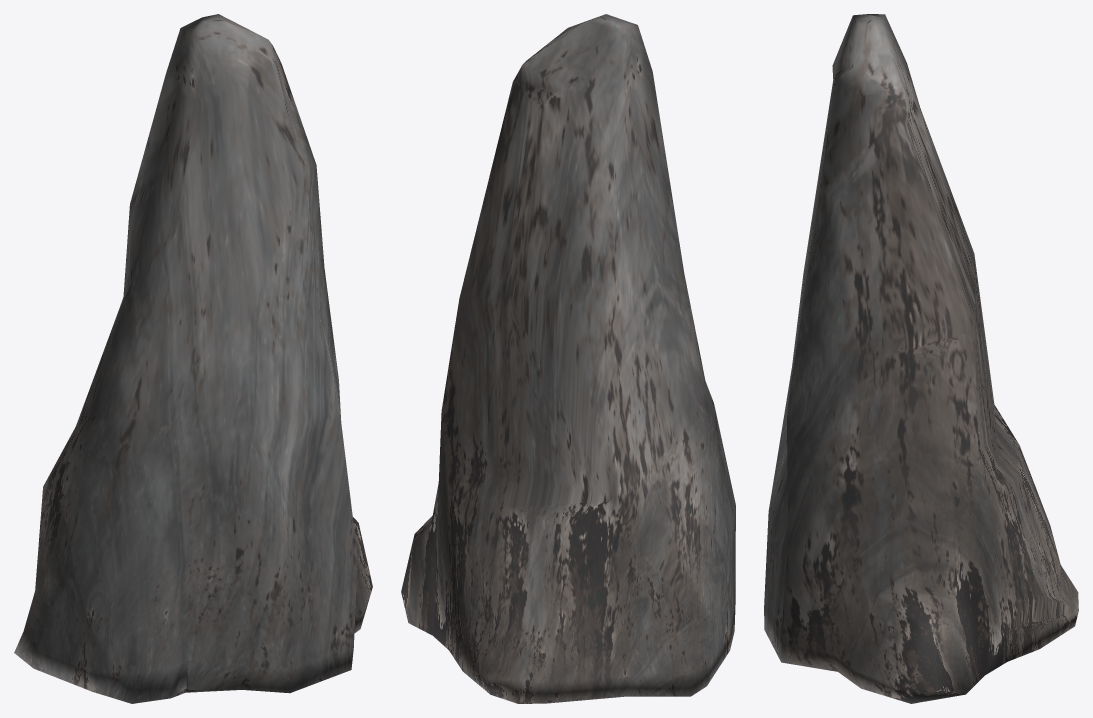
The model's file is stone11.fbx.
3 views of the same model, side by side, from view 1: azimuth 30°, elevation 25°; view 2: azimuth 150°, elevation 25°; view 3: azimuth 270°, elevation 25° (orthographic). The views are drawn at different scales.
Parts seen in each view (by area): view 1: stone05; view 2: stone05; view 3: stone05.
Part boxes in pixels (x1,y1,x2,y2): stone05: [14, 14, 372, 703]; stone05: [401, 14, 735, 703]; stone05: [764, 14, 1078, 703].
Bounding box in the file's own units: 1.42 × 2.67 × 1.26.
Materials: 1 (1 with a texture image).
